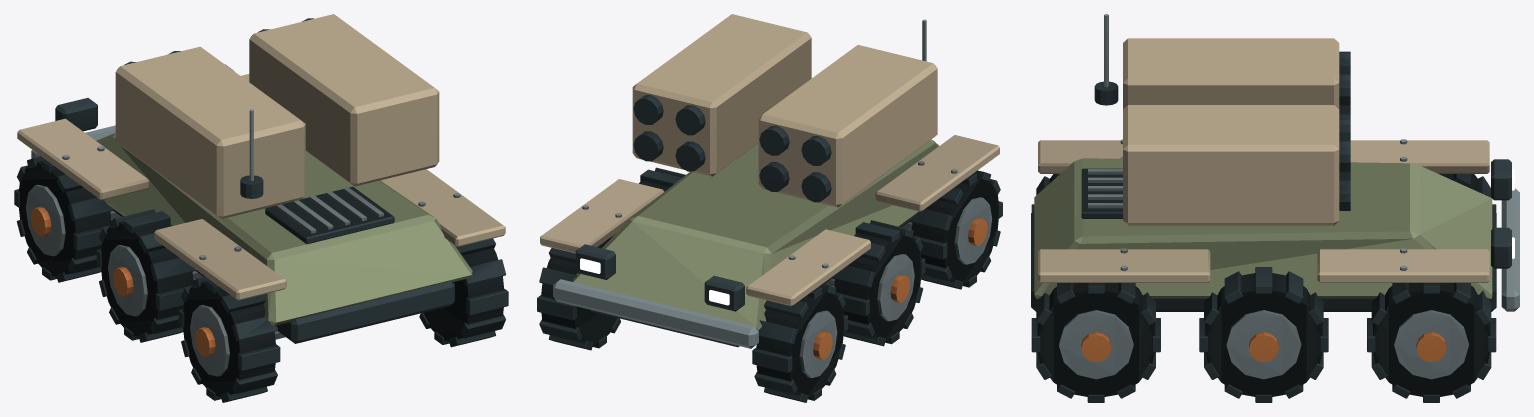
The model's file is SAMTechnical.glb.
The picture shows the model from 3 angles, left to right: view 1: azimuth 30°, elevation 25°; view 2: azimuth 150°, elevation 25°; view 3: azimuth 270°, elevation 25°; orthographic projection. The views are drawn at different scales.
Visible parts, largest first — view 1: export_SAMTechnical_Axle, export_SAMTechnical_RocketPod, export_SAMTechnical_Tire, export_SAMTechnical_Tire.002, export_SAMTechnical_Tire.004, export_SAMTechnical_Tire.001; view 2: export_SAMTechnical_Axle, export_SAMTechnical_RocketPod, export_SAMTechnical_Tire.004, export_SAMTechnical_Tire.002, export_SAMTechnical_Tire, export_SAMTechnical_Tire.005, export_SAMTechnical_Tire.003; view 3: export_SAMTechnical_Axle, export_SAMTechnical_RocketPod, export_SAMTechnical_Tire.003, export_SAMTechnical_Tire.005, export_SAMTechnical_Tire.001, export_SAMTechnical_Tire.004.
Part boxes in pixels (x1,y1,x2,y2): export_SAMTechnical_Axle: [17, 64, 505, 343]; export_SAMTechnical_RocketPod: [115, 14, 439, 218]; export_SAMTechnical_Tire: [178, 276, 280, 402]; export_SAMTechnical_Tire.002: [96, 209, 195, 342]; export_SAMTechnical_Tire.004: [14, 156, 113, 282]; export_SAMTechnical_Tire.001: [419, 238, 508, 347]; export_SAMTechnical_Axle: [540, 135, 999, 348]; export_SAMTechnical_RocketPod: [632, 14, 937, 207]; export_SAMTechnical_Tire.004: [752, 284, 847, 402]; export_SAMTechnical_Tire.002: [832, 220, 925, 346]; export_SAMTechnical_Tire: [909, 170, 1002, 289]; export_SAMTechnical_Tire.005: [537, 234, 620, 350]; export_SAMTechnical_Tire.003: [639, 167, 685, 191]; export_SAMTechnical_Axle: [1031, 139, 1519, 311]; export_SAMTechnical_RocketPod: [1094, 14, 1350, 225]; export_SAMTechnical_Tire.003: [1199, 267, 1328, 402]; export_SAMTechnical_Tire.005: [1367, 283, 1496, 402]; export_SAMTechnical_Tire.001: [1031, 283, 1160, 402]; export_SAMTechnical_Tire.004: [1439, 174, 1496, 212].
Bounding box in the file's own units: 2.54 × 2.34 × 3.73.
